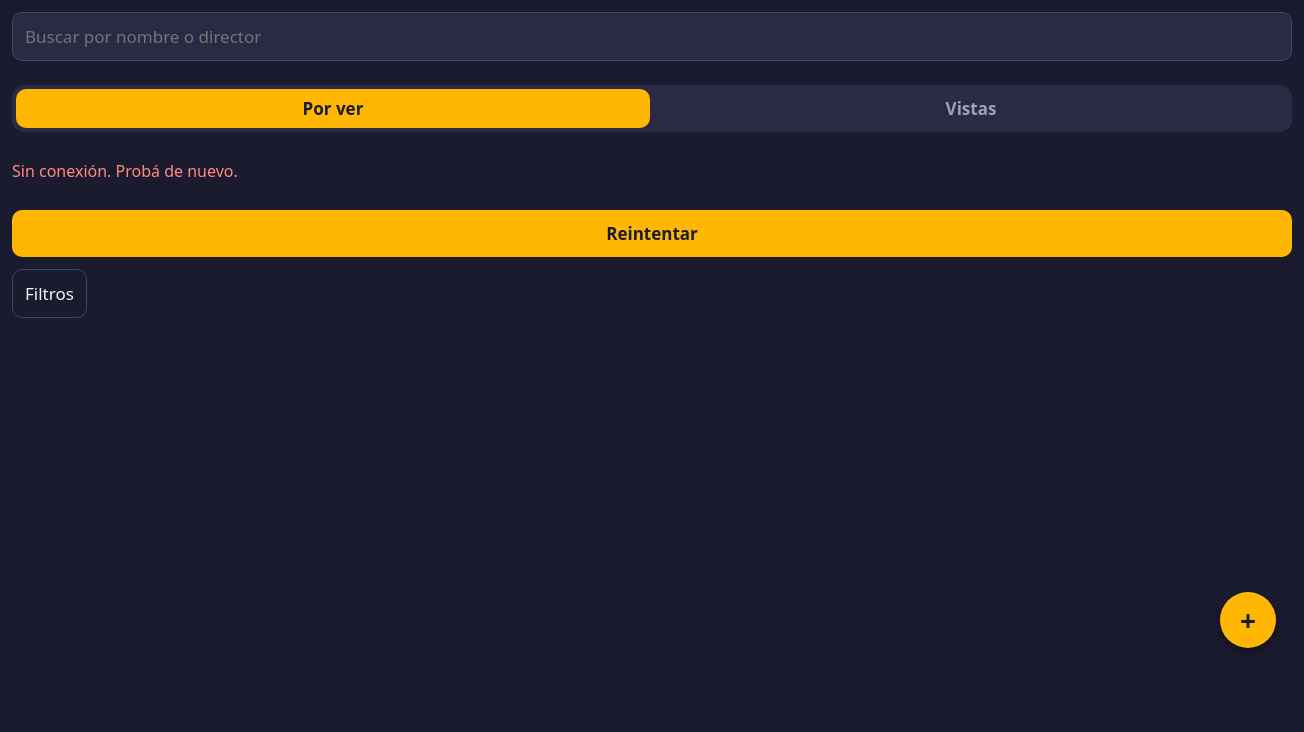
Test: a network failure offers Reintentar
Check: the text "Sin conexión. Probá de nuevo." is shown, box [12, 160, 238, 182]
Click the button "Reintentar".
click(652, 234)  # box [12, 210, 1292, 257]
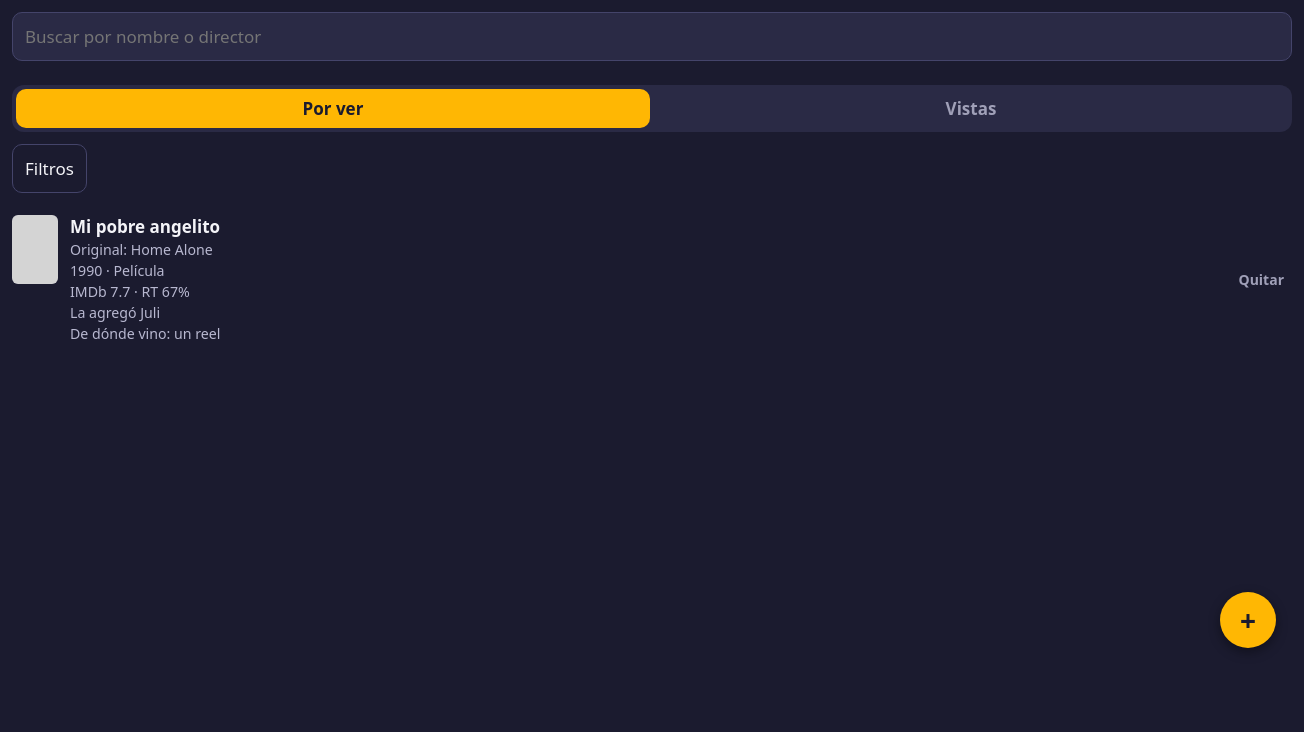
Check: the text "Mi pobre angelito" is shown, box [70, 215, 220, 238]
